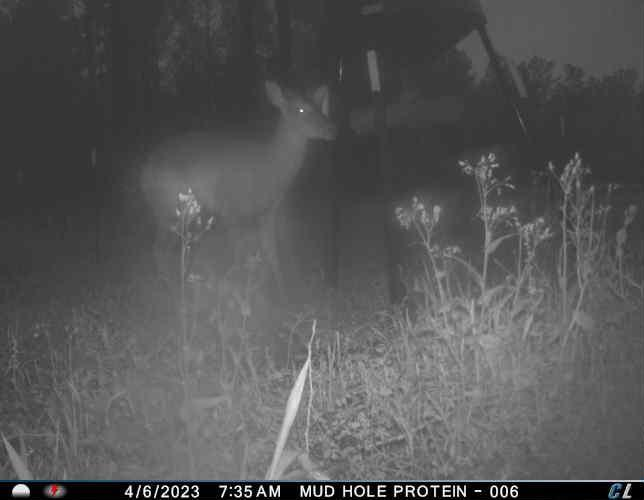Deer: (137, 74, 340, 316)
